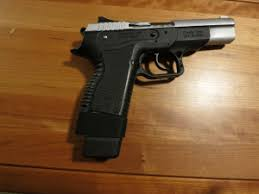gun: (75, 16, 236, 153)
